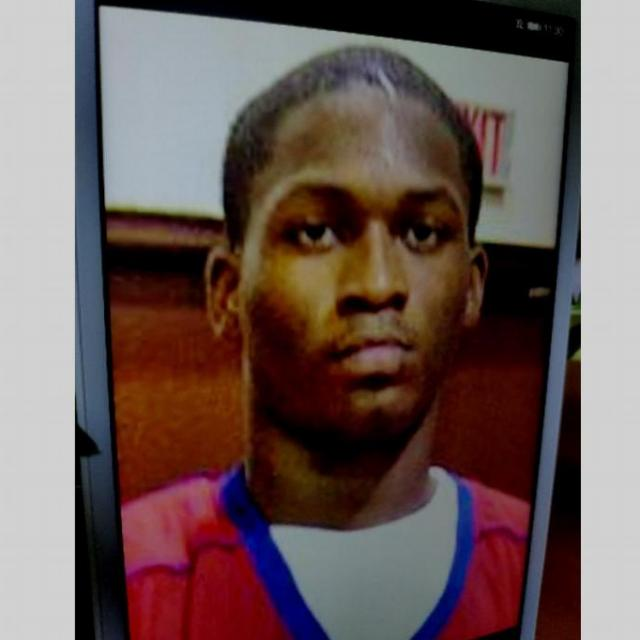device: (73, 0, 578, 640)
